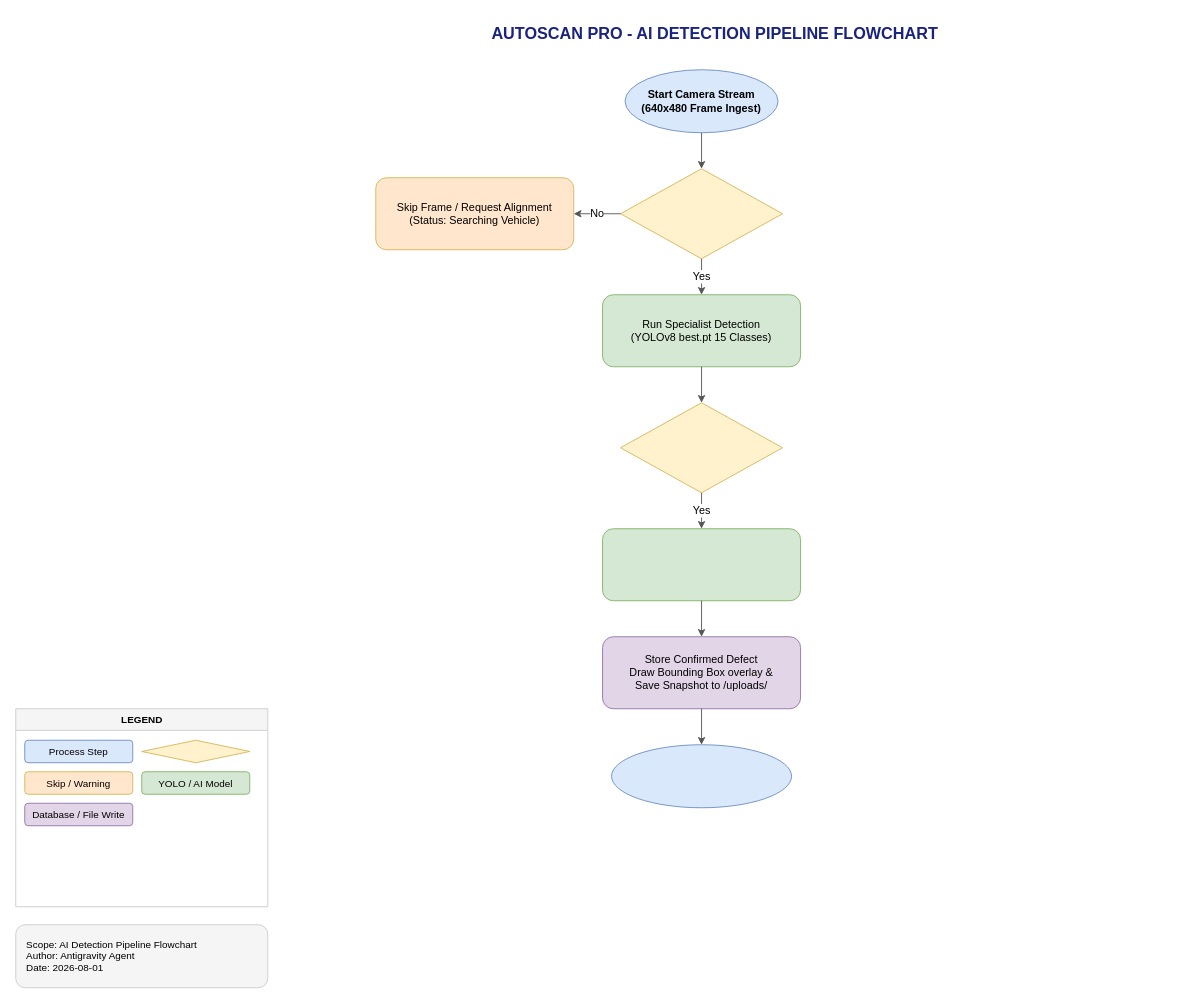
Image size: 1181x1004. Some labels were removed from this diagram. The centre of each missing label's shape, as x and y in pixels:
Check 5-Frame Spatiotemporal Stability (OpenCV Centroid Tracker): [701,564]
Confidence > 0.35? & IOU > 0.30 Filter: [701,447]
Decisions / Checks: [195,751]
Emit Live WS Frame (JSON Bboxes + Base64 Stream): [701,776]
Vehicle Detected? (YOLOv8n Gate): [701,213]
